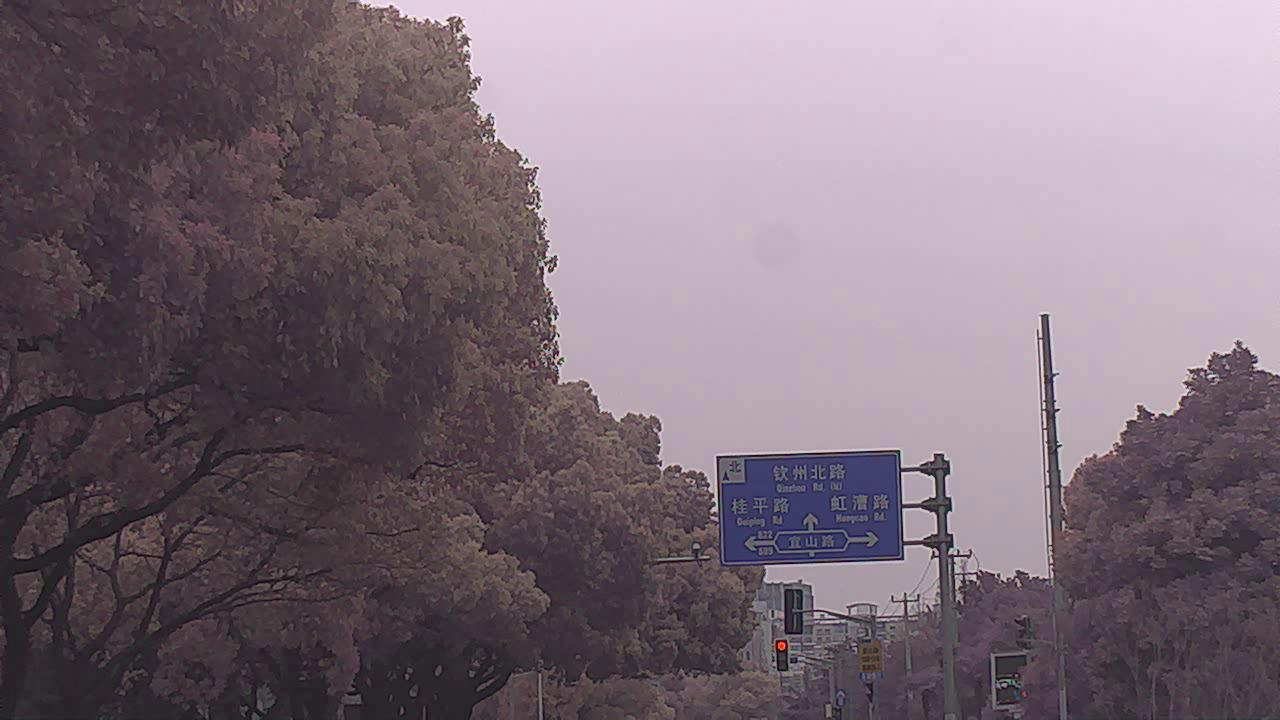traffic_light: (776, 637, 790, 670)
